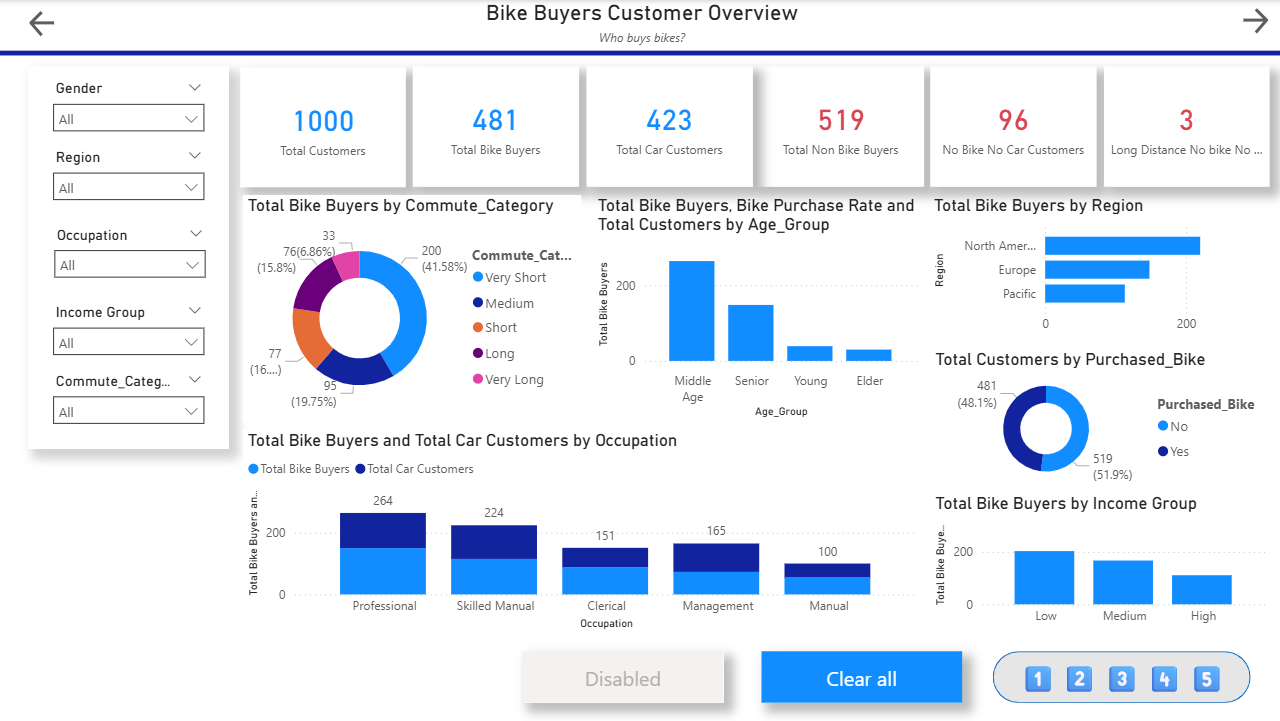

What the dashboard file says about the page in this screenshot:
{"tool":"powerbi","page":{"name":"Bike Buyers Customer Overview","canvas":[1280,720],"ordinal":1},"visuals":[{"type":"textbox","title":"Bike Buyers Customer Overview","box":[0,0,1280,55.5],"z":0},{"type":"shape","box":[29.1,66.1,199.7,380.8],"z":1000},{"type":"slicer","fields":{"Values":["Dim_Cus.Gender"]},"box":[43.6,74.2,170.4,75.9],"z":2000},{"type":"slicer","fields":{"Values":["Dim_Cus.Region"]},"box":[43.6,142.6,170.4,77.1],"z":3000},{"type":"slicer","fields":{"Values":["Dim_Cus.Occupation"]},"box":[44.9,219.7,170.4,77.1],"z":4000},{"type":"slicer","fields":{"Values":["Dim_Cus.Income Group"]},"box":[43.6,296.9,170.4,75.9],"z":5000},{"type":"slicer","fields":{"Values":["Dim_Cus.Commute_Category"]},"box":[43.6,365.3,170.4,77.1],"z":6000},{"type":"clusteredColumnChart","fields":{"Category":["Dim_Cus.Age_Group"],"Y":["Fact_Bike_Sales.Total Bike Buyers"]},"box":[591.1,194.4,327.9,226.1],"z":7000},{"type":"clusteredBarChart","fields":{"Category":["Dim_Cus.Region"],"Y":["Fact_Bike_Sales.Total Bike Buyers"]},"box":[925.6,194.4,341.2,146.8],"z":8000},{"type":"clusteredColumnChart","fields":{"Category":["Dim_Cus.Income Group"],"Y":["Fact_Bike_Sales.Total Bike Buyers"]},"box":[926.9,490.6,339.8,141.5],"z":9000},{"type":"donutChart","fields":{"Category":["Fact_Bike_Sales.Purchased_Bike"],"Y":["Fact_Bike_Sales.Total Customers"]},"box":[926.9,346.4,339.8,140.2],"z":10000},{"type":"card","fields":{"Values":["Fact_Bike_Sales.Total Customers"]},"box":[240.5,67,165,119],"z":11000},{"type":"card","fields":{"Values":["Fact_Bike_Sales.Total Bike Buyers"]},"box":[412.2,66.4,165.4,119.8],"z":12000},{"type":"card","fields":{"Values":["Fact_Bike_Sales.Total Non Bike Buyers"]},"box":[755.2,66.4,165.4,119.8],"z":13000},{"type":"card","fields":{"Values":["Fact_Bike_Sales.Total Car Customers"]},"box":[584.2,66.4,165.4,119.8],"z":14000},{"type":"card","fields":{"Values":["Fact_Bike_Sales.No Bike No Car Customers"]},"box":[927.2,66.4,165.4,119.8],"z":15000},{"type":"card","fields":{"Values":["Fact_Bike_Sales.Long Distance No bike No Car"]},"box":[1100.2,66.4,165,120],"z":16000},{"type":"donutChart","fields":{"Category":["Dim_Cus.Commute_Category"],"Y":["Fact_Bike_Sales.Total Bike Buyers"]},"box":[242,194.4,337.2,226.1],"z":17000},{"type":"columnChart","fields":{"Y":["Fact_Bike_Sales.Total Bike Buyers","Fact_Bike_Sales.Total Car Customers"],"Category":["Dim_Cus.Occupation"]},"box":[242,428.4,677,203.6],"z":18000},{"type":"actionButton","box":[26.4,0,34.4,47.6],"z":19000},{"type":"shape","box":[989.1,647.9,256.5,51.6],"z":20000},{"type":"actionButton","box":[1055.2,654.5,41,39.7],"z":21000},{"type":"actionButton","box":[1097.5,654.5,41,39.7],"z":22000},{"type":"actionButton","box":[1139.8,654.5,41,39.7],"z":23000},{"type":"actionButton","box":[1182.1,654.5,41,39.7],"z":24000},{"type":"actionButton","box":[1014.2,654.5,41,39.7],"z":25000},{"type":"actionButton","box":[759,647.9,199.7,51.6],"z":26000},{"type":"actionButton","box":[521,647.9,199.7,51.6],"z":27000},{"type":"actionButton","box":[1232.4,1.3,34.4,39.7],"z":28000}]}

Visuals, with their boxes in screenshot pixels (x1, y1, x2, y2), scaled from the page's 1280x720 canvas onto the 1280x721 screenshot:
"Bike Buyers Customer Overview" textbox: BBox(0, 0, 1279, 56)
shape: BBox(29, 66, 229, 448)
slicer - Dim_Cus.Gender: BBox(44, 74, 214, 150)
slicer - Dim_Cus.Region: BBox(44, 143, 214, 220)
slicer - Dim_Cus.Occupation: BBox(45, 220, 215, 297)
slicer - Dim_Cus.Income Group: BBox(44, 297, 214, 373)
slicer - Dim_Cus.Commute_Category: BBox(44, 366, 214, 443)
clusteredColumnChart - Dim_Cus.Age_Group x Fact_Bike_Sales.Total Bike Buyers: BBox(591, 195, 919, 421)
clusteredBarChart - Dim_Cus.Region x Fact_Bike_Sales.Total Bike Buyers: BBox(926, 195, 1267, 342)
clusteredColumnChart - Dim_Cus.Income Group x Fact_Bike_Sales.Total Bike Buyers: BBox(927, 491, 1267, 633)
donutChart - Fact_Bike_Sales.Purchased_Bike x Fact_Bike_Sales.Total Customers: BBox(927, 347, 1267, 487)
card - Fact_Bike_Sales.Total Customers: BBox(240, 67, 406, 186)
card - Fact_Bike_Sales.Total Bike Buyers: BBox(412, 66, 578, 186)
card - Fact_Bike_Sales.Total Non Bike Buyers: BBox(755, 66, 921, 186)
card - Fact_Bike_Sales.Total Car Customers: BBox(584, 66, 750, 186)
card - Fact_Bike_Sales.No Bike No Car Customers: BBox(927, 66, 1093, 186)
card - Fact_Bike_Sales.Long Distance No bike No Car: BBox(1100, 66, 1265, 187)
donutChart - Dim_Cus.Commute_Category x Fact_Bike_Sales.Total Bike Buyers: BBox(242, 195, 579, 421)
columnChart - Fact_Bike_Sales.Total Bike Buyers x Fact_Bike_Sales.Total Car Customers: BBox(242, 429, 919, 633)
actionButton: BBox(26, 0, 61, 48)
shape: BBox(989, 649, 1246, 700)
actionButton: BBox(1055, 655, 1096, 695)
actionButton: BBox(1098, 655, 1138, 695)
actionButton: BBox(1140, 655, 1181, 695)
actionButton: BBox(1182, 655, 1223, 695)
actionButton: BBox(1014, 655, 1055, 695)
actionButton: BBox(759, 649, 959, 700)
actionButton: BBox(521, 649, 721, 700)
actionButton: BBox(1232, 1, 1267, 41)
